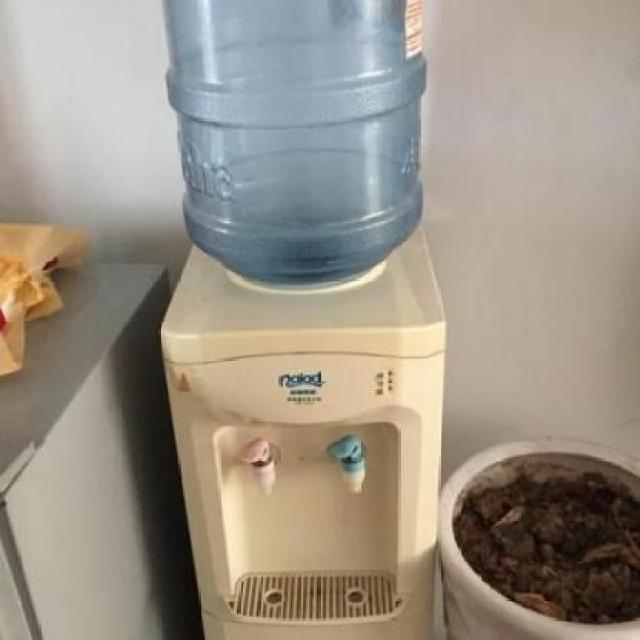coolerbottle: (158, 0, 436, 285)
